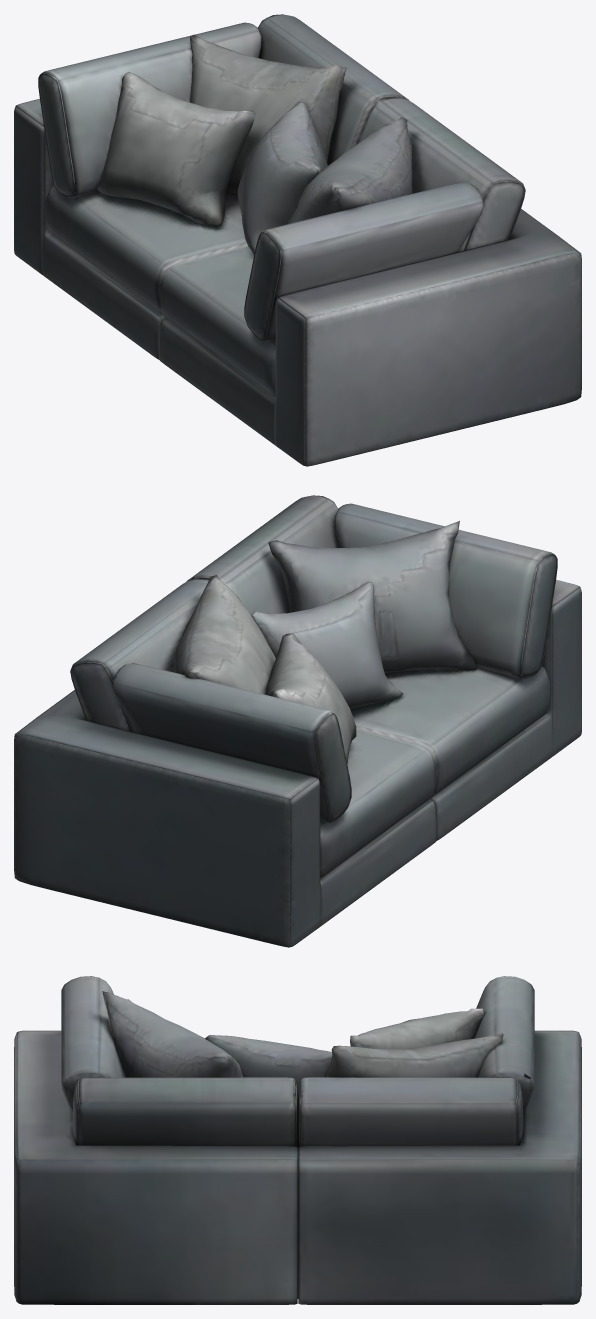
The model's file is sofa1-var2.glb.
3 renders of one model, top to bottom at view 1: azimuth 30°, elevation 25°; view 2: azimuth 150°, elevation 25°; view 3: azimuth 270°, elevation 25°, orthographic. The views are drawn at different scales.
Visible parts, largest first — view 1: Sala_Cozinha.3148; view 2: Sala_Cozinha.3148; view 3: Sala_Cozinha.3148.
Boxes of the visible parts, x1=… form: Sala_Cozinha.3148: x1=14, y1=14, x2=581, y2=466; Sala_Cozinha.3148: x1=14, y1=495, x2=581, y2=947; Sala_Cozinha.3148: x1=14, y1=976, x2=581, y2=1304.
Bounding box in the file's own units: 1.18 × 0.9403 × 2.12.
1 material, 1 textured.
